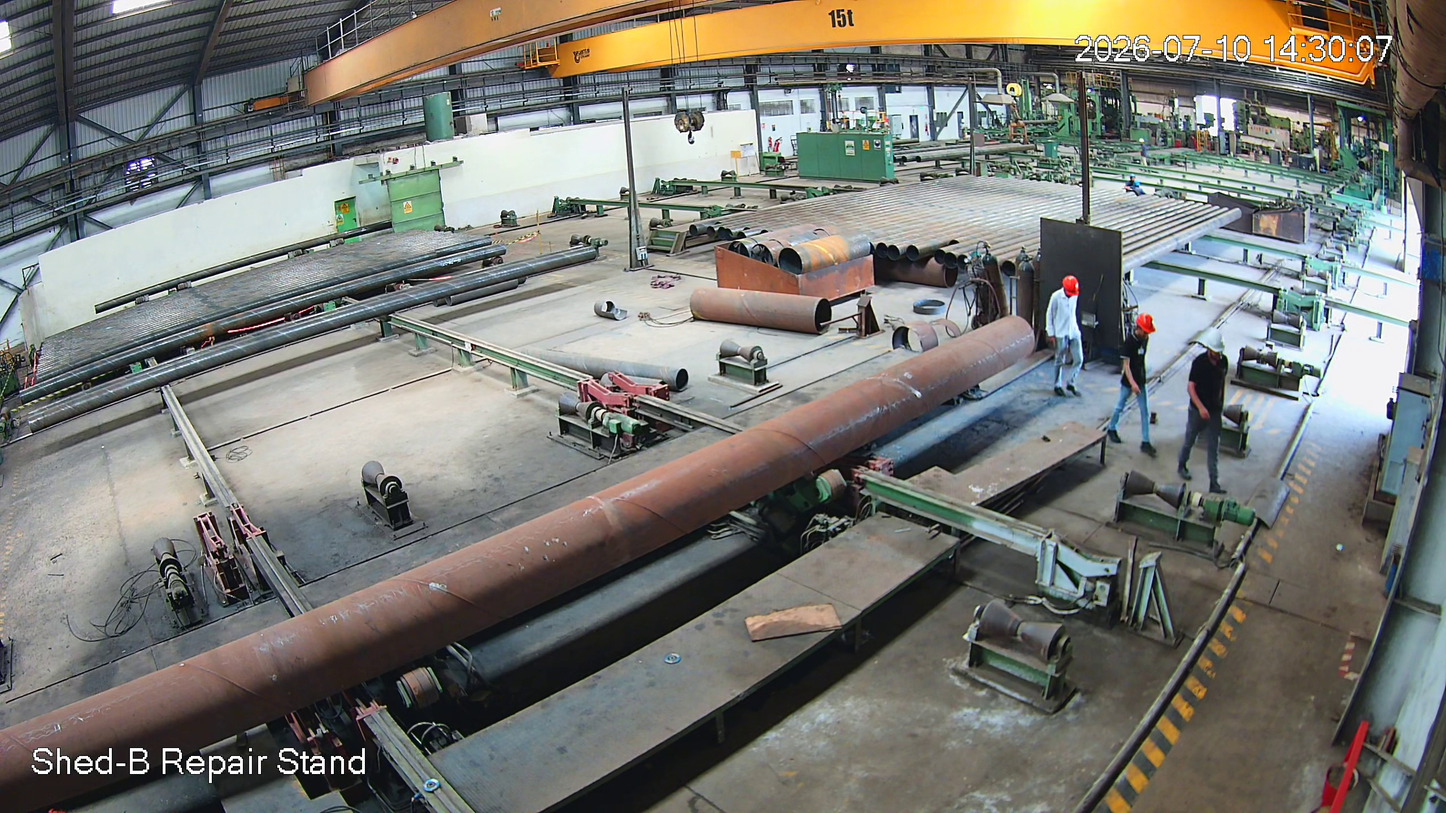Helmet: (1195, 324, 1231, 368), (1057, 268, 1084, 307), (1132, 310, 1160, 341)
Person: (1180, 325, 1237, 499), (1116, 313, 1168, 468), (1046, 273, 1086, 405)
